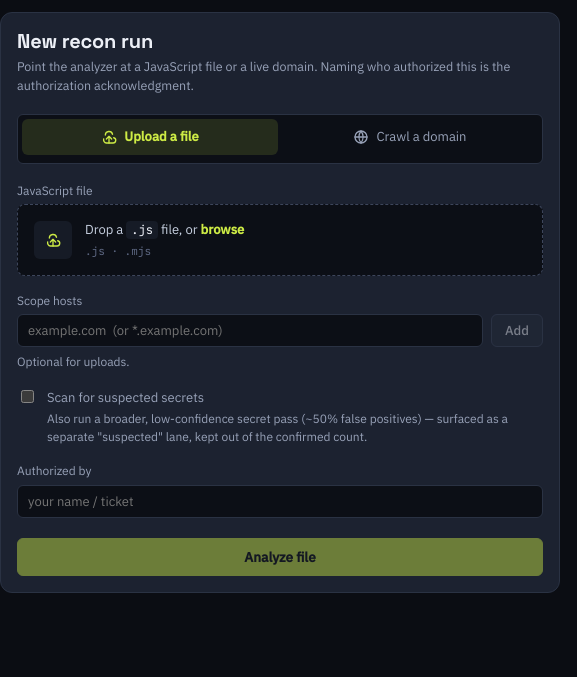
it: NewRunPanel › adds a scope host on Enter without submitting the form
Click the radio button labelled "Crawl a domain" at (410, 136), box top-left (354, 128), bottom-right (466, 145)
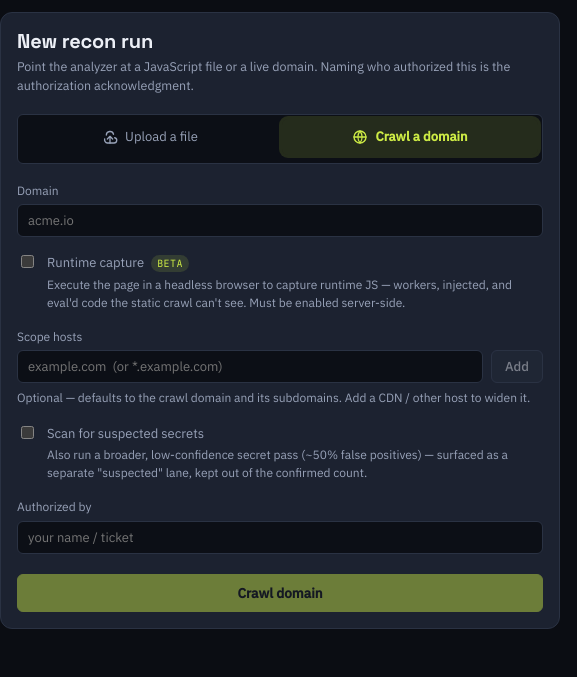
Type "cdn.acme.io" into the field labelled "Scope hosts" at (250, 367), box top-left (17, 350), bottom-right (483, 383)
Then press Enter
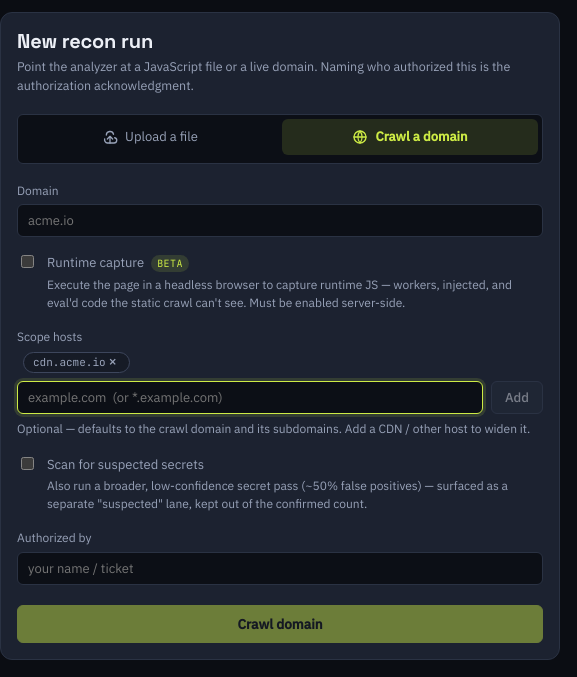
Expected: the field labelled "Scope hosts" is empty, top-left (17, 381), bottom-right (483, 414)
Expected: the text "cdn.acme.io" is shown, top-left (33, 355), bottom-right (106, 369)
